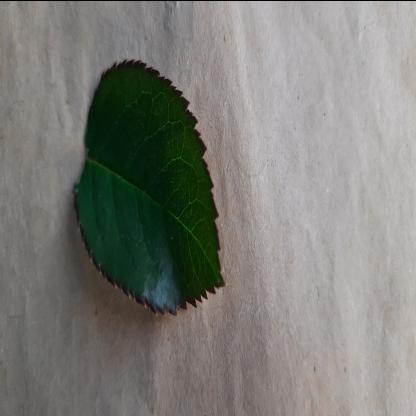normal: (73, 51, 223, 313)
